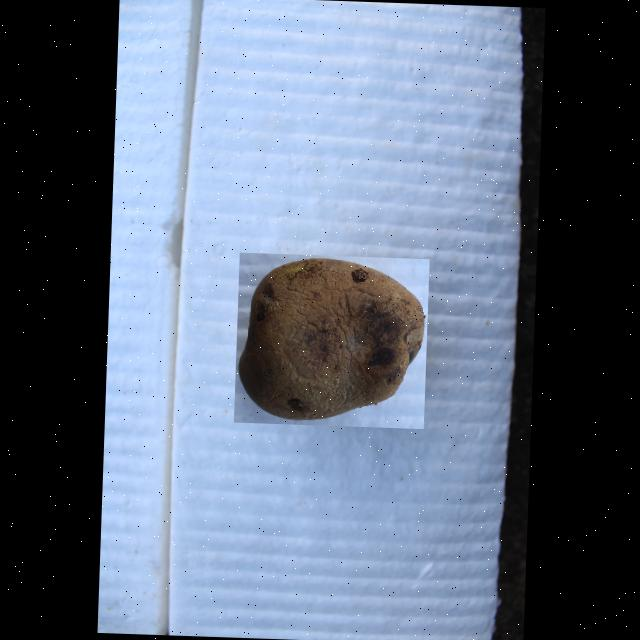Diseased-fungal potato: (232, 252, 428, 429)
